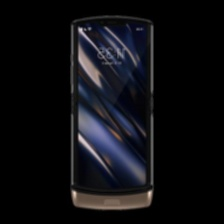phone: (67, 11, 160, 215)
